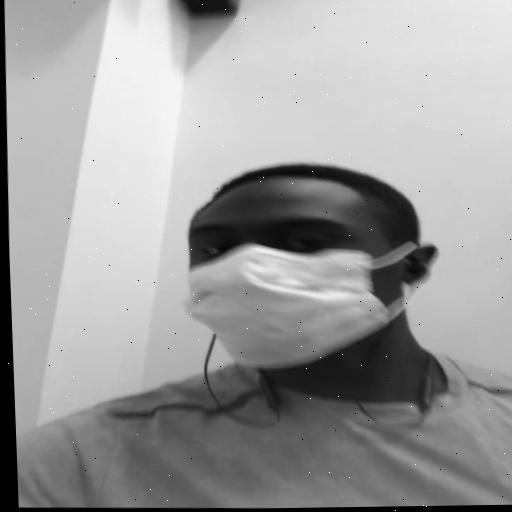mask: (179, 191, 418, 371)
